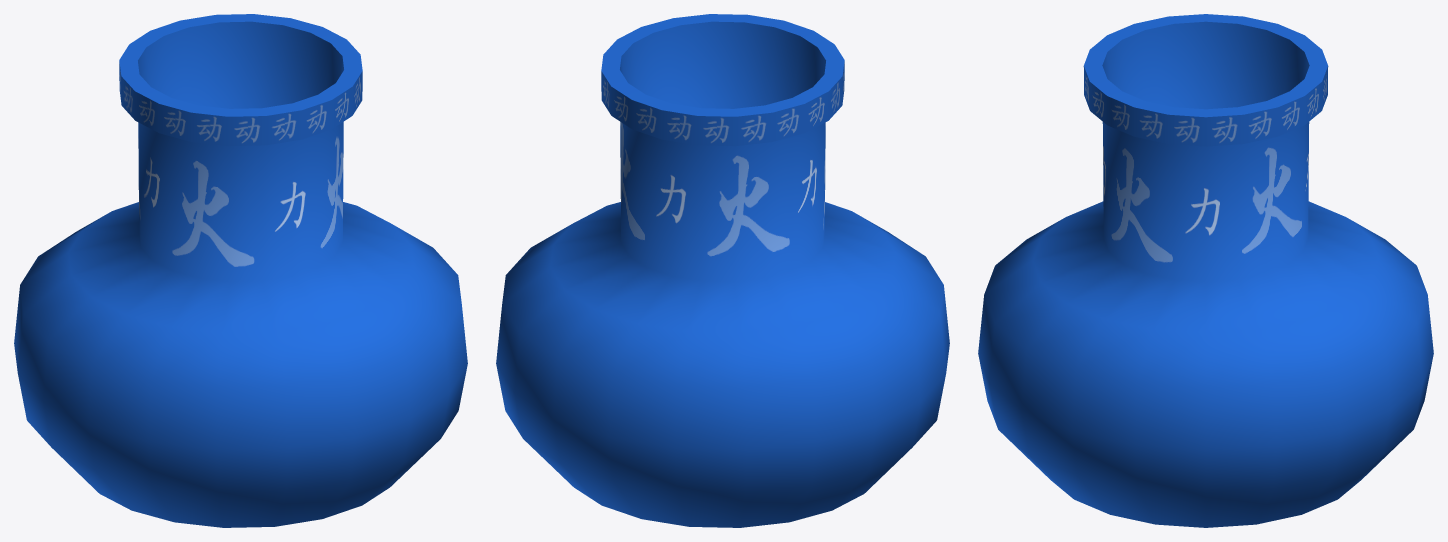
The model's file is jar_3.gltf.
The picture shows the model from 3 angles, left to right: view 1: azimuth 30°, elevation 25°; view 2: azimuth 150°, elevation 25°; view 3: azimuth 270°, elevation 25°; orthographic projection.
Visible parts, largest first — view 1: pasted__glass1; view 2: pasted__glass1; view 3: pasted__glass1.
Boxes of the visible parts, x1=… form: pasted__glass1: x1=14, y1=14, x2=467, y2=527; pasted__glass1: x1=496, y1=14, x2=949, y2=527; pasted__glass1: x1=978, y1=14, x2=1433, y2=527.
Bounding box in the file's own units: 0.4408 × 0.42 × 0.4408.
1 material, 1 textured.
